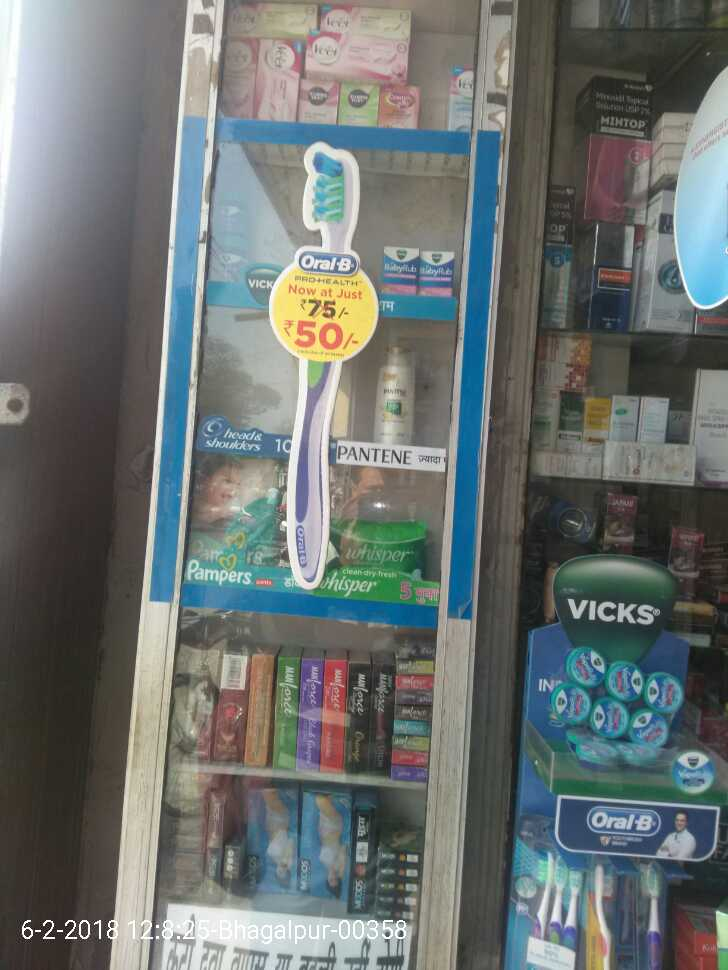oralcare: (517, 807, 720, 970)
vicks: (542, 642, 723, 803), (371, 233, 471, 305)
